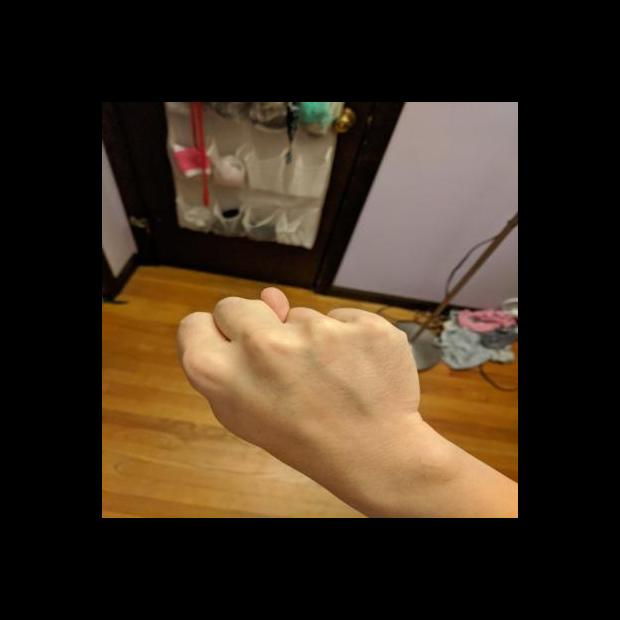M: (172, 283, 425, 461)
